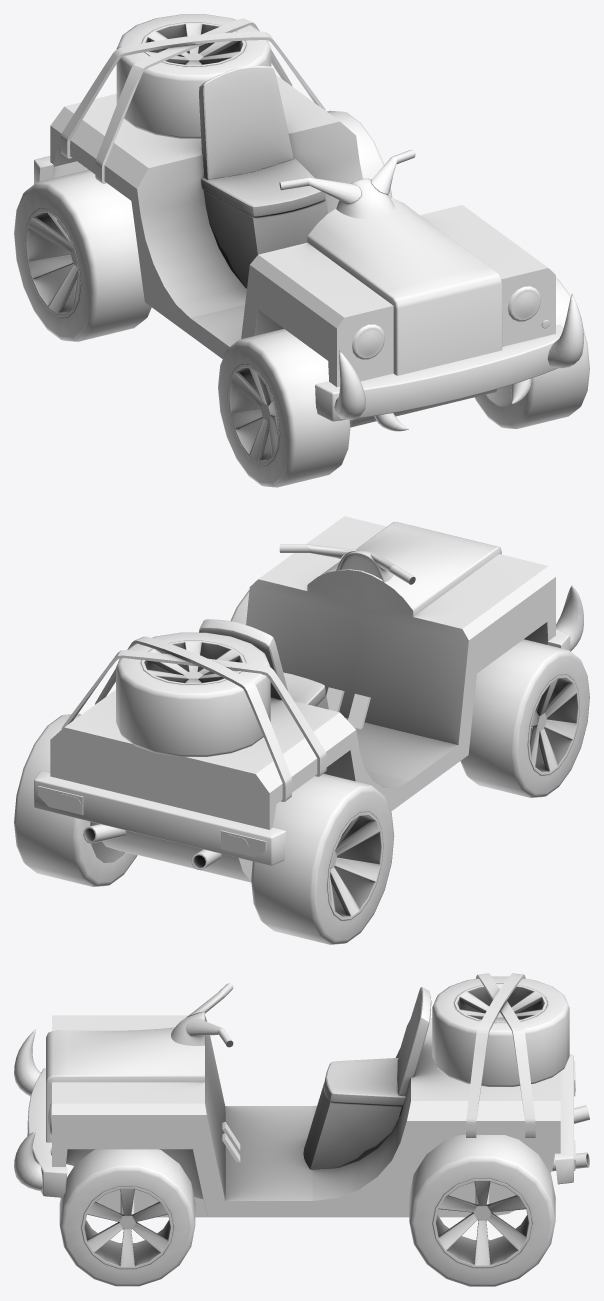
File: Buto3.fbx
3 renders of one model, top to bottom at view 1: azimuth 30°, elevation 25°; view 2: azimuth 150°, elevation 25°; view 3: azimuth 270°, elevation 25°, orthographic. The views are drawn at different scales.
Parts seen in each view (by area): view 1: Cube.062, Circle.004, Circle.005, Circle.006, Cube.071; view 2: Cube.062, Circle.004, Circle.005, Cube.071; view 3: Cube.062, Circle.004, Circle.006, Cube.071.
Boxes of the visible parts, x1=… form: Cube.062: x1=34, y1=14, x2=583, y2=431; Circle.004: x1=14, y1=110, x2=392, y2=341; Circle.005: x1=218, y1=329, x2=350, y2=487; Circle.006: x1=474, y1=278, x2=589, y2=428; Cube.071: x1=279, y1=149, x2=415, y2=218; Cube.062: x1=34, y1=516, x2=583, y2=882; Circle.004: x1=14, y1=714, x2=394, y2=944; Circle.005: x1=460, y1=639, x2=589, y2=797; Cube.071: x1=279, y1=544, x2=415, y2=584; Cube.062: x1=14, y1=973, x2=589, y2=1217; Circle.004: x1=409, y1=1135, x2=555, y2=1286; Circle.006: x1=59, y1=1149, x2=195, y2=1286; Cube.071: x1=171, y1=983, x2=233, y2=1047.
Bounding box in the file's own units: 145 × 117 × 268.
